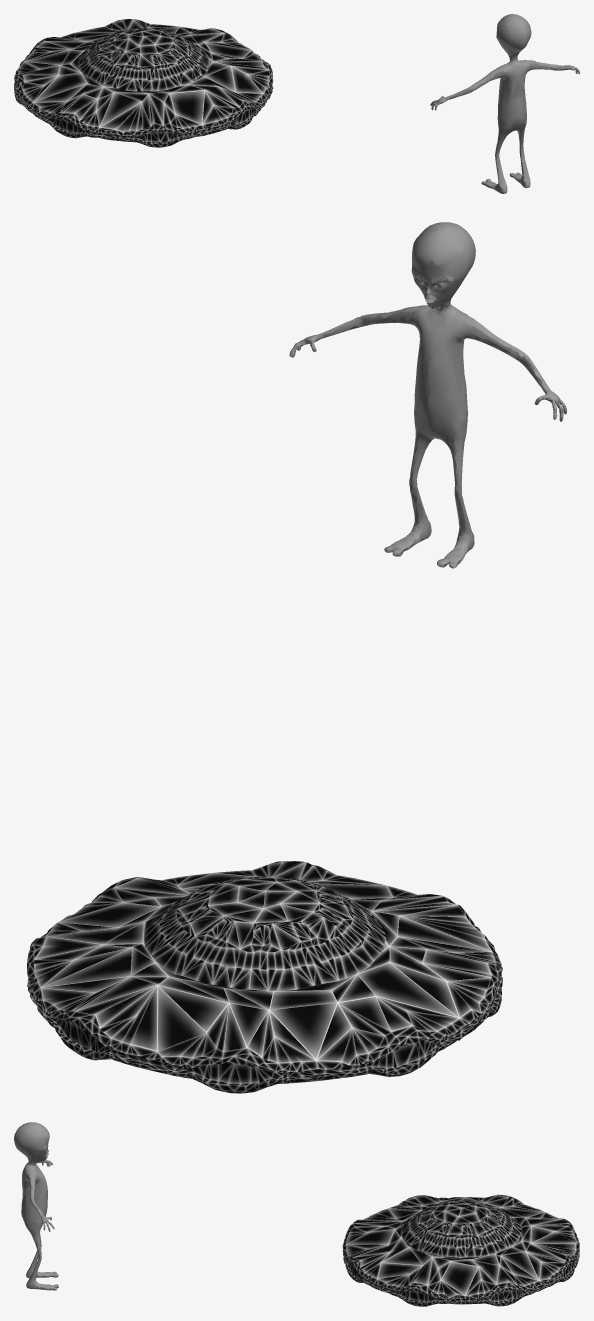
The model's file is frame_043.obj.
3 views of the same model, one above another, from view 1: azimuth 30°, elevation 25°; view 2: azimuth 150°, elevation 25°; view 3: azimuth 270°, elevation 25° (orthographic). The views are drawn at different scales.
Visible parts, largest first — view 1: 13884_UFO_Saucer_v1_l2, 10469_GrayAlien_v01; view 2: 13884_UFO_Saucer_v1_l2, 10469_GrayAlien_v01; view 3: 13884_UFO_Saucer_v1_l2, 10469_GrayAlien_v01.
Boxes of the visible parts, box(x1,y1,x2,y2) form: 13884_UFO_Saucer_v1_l2: box(14, 19, 273, 147); 10469_GrayAlien_v01: box(430, 14, 579, 193); 13884_UFO_Saucer_v1_l2: box(27, 861, 502, 1093); 10469_GrayAlien_v01: box(289, 222, 566, 568); 13884_UFO_Saucer_v1_l2: box(342, 1194, 579, 1306); 10469_GrayAlien_v01: box(14, 1122, 58, 1290).
Bounding box in the file's own units: 18.25 × 13.46 × 30.27.
